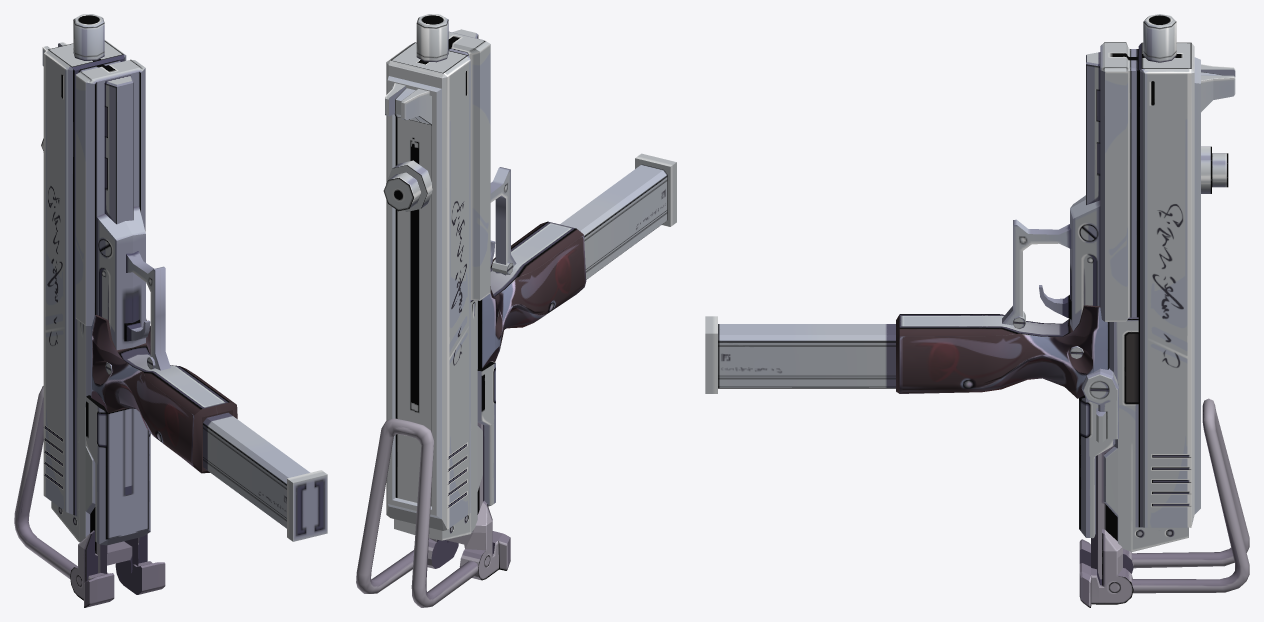
File: KafKa_Gun1.fbx
The picture shows the model from 3 angles, left to right: view 1: azimuth 30°, elevation 25°; view 2: azimuth 150°, elevation 25°; view 3: azimuth 270°, elevation 25°; orthographic projection. The views are drawn at different scales.
Parts seen in each view (by area): view 1: 卡芙卡_mesh; view 2: 卡芙卡_mesh; view 3: 卡芙卡_mesh.
Part boxes in pixels (x1,y1,x2,y2): 卡芙卡_mesh: [14, 14, 327, 607]; 卡芙卡_mesh: [356, 14, 676, 607]; 卡芙卡_mesh: [705, 14, 1249, 607].
Bounding box in the file's own units: 71.37 × 472 × 410.
1 material, 1 textured.
